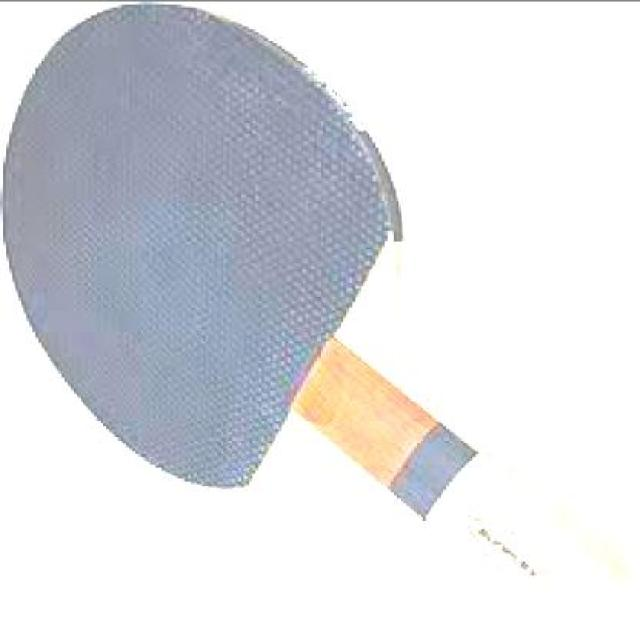table_tennis_racket: (0, 3, 403, 489)
